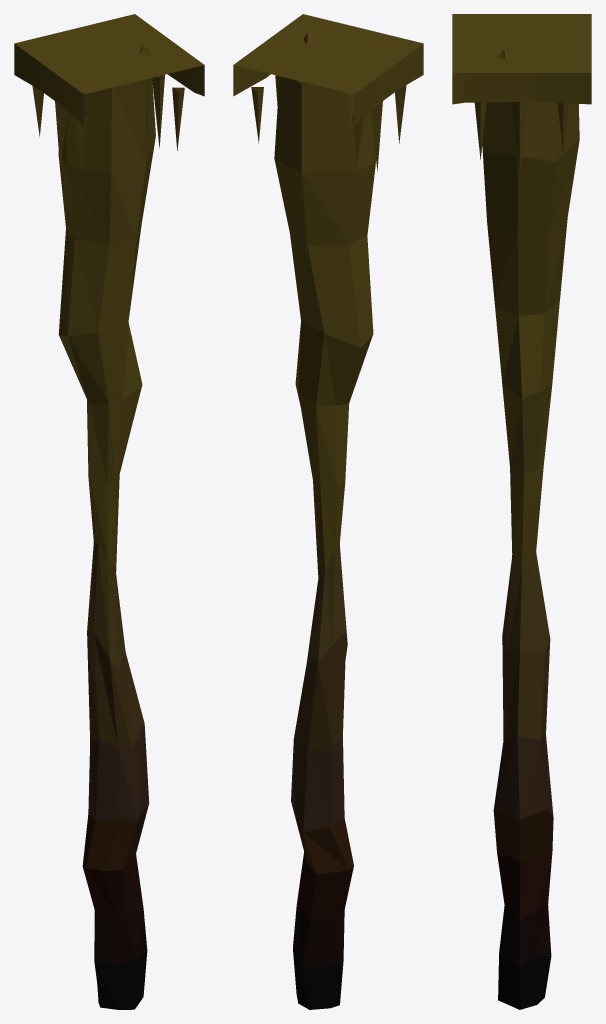
Rendered from obj_upass_bridge+support_0.obj.
The picture shows the model from 3 angles, left to right: view 1: azimuth 30°, elevation 25°; view 2: azimuth 150°, elevation 25°; view 3: azimuth 270°, elevation 25°; orthographic projection.
Size of the model in its own units: 1 by 7.58 by 1.
